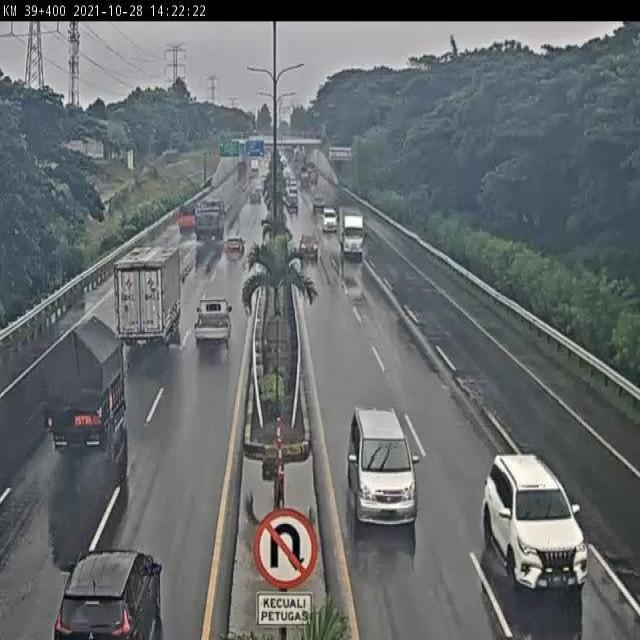car: (485, 452, 592, 596), (347, 406, 420, 526), (192, 294, 234, 350)
truck-l-: (113, 247, 182, 345), (195, 200, 225, 245)
truck-m-: (39, 316, 125, 449)
truck-s-: (338, 200, 367, 256), (178, 203, 199, 233)
